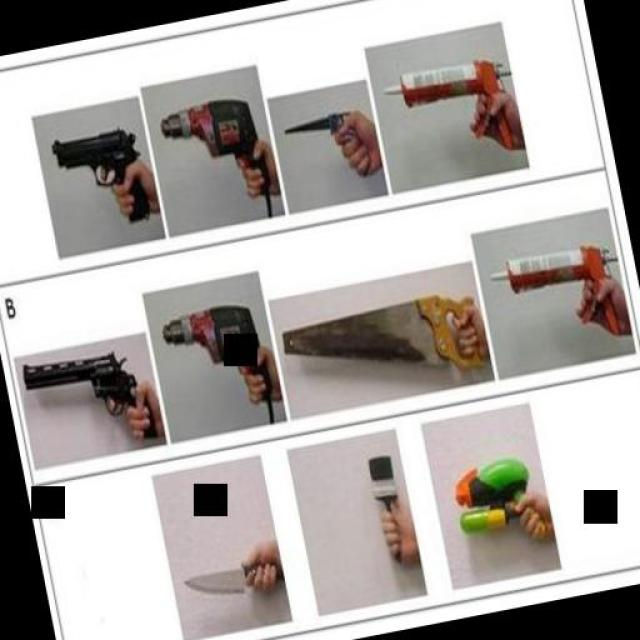gun: (18, 336, 158, 459), (48, 114, 154, 246)
